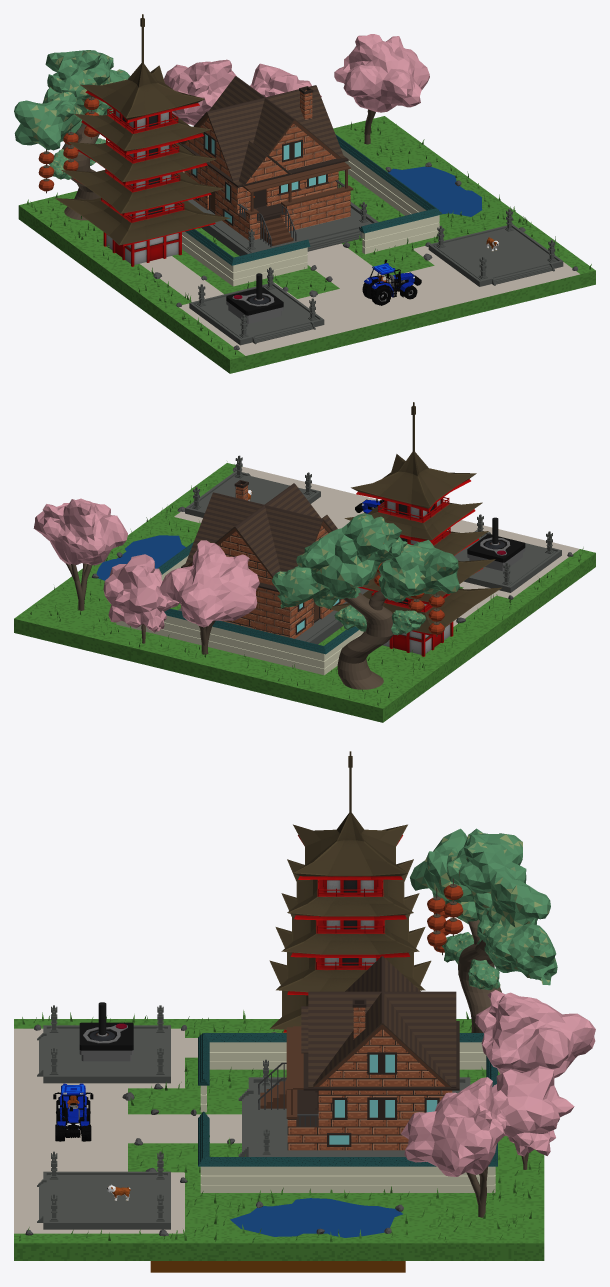
The picture shows the model from 3 angles, top to bottom: view 1: azimuth 30°, elevation 25°; view 2: azimuth 150°, elevation 25°; view 3: azimuth 270°, elevation 25°; orthographic projection. The views are drawn at different scales.
Parts seen in each view (by area): view 1: Cube.005, Cube.469, VEHICLES_TRACTOR, OBJRANDOM_JOYSTICK; view 2: Cube.005, Cube.469, OBJRANDOM_JOYSTICK; view 3: Cube.005, Cube.469, UNDERGROUND_ART_PIECE_VAN_GOGH, OBJRANDOM_JOYSTICK, VEHICLES_TRACTOR.
Boxes of the visible parts, x1,y1,x2,y2 form: Cube.005: [14, 14, 595, 373]; Cube.469: [178, 76, 353, 247]; VEHICLES_TRACTOR: [362, 259, 421, 305]; OBJRANDOM_JOYSTICK: [226, 273, 283, 323]; Cube.005: [14, 402, 595, 722]; Cube.469: [181, 480, 345, 638]; OBJRANDOM_JOYSTICK: [467, 517, 525, 571]; Cube.005: [14, 751, 595, 1260]; Cube.469: [258, 956, 459, 1150]; UNDERGROUND_ART_PIECE_VAN_GOGH: [150, 1261, 405, 1272]; OBJRANDOM_JOYSTICK: [79, 1002, 133, 1061]; VEHICLES_TRACTOR: [53, 1083, 93, 1141].
Bounding box in the file's own units: 4528 × 2816 × 4389.
43 materials, 7 textured.
